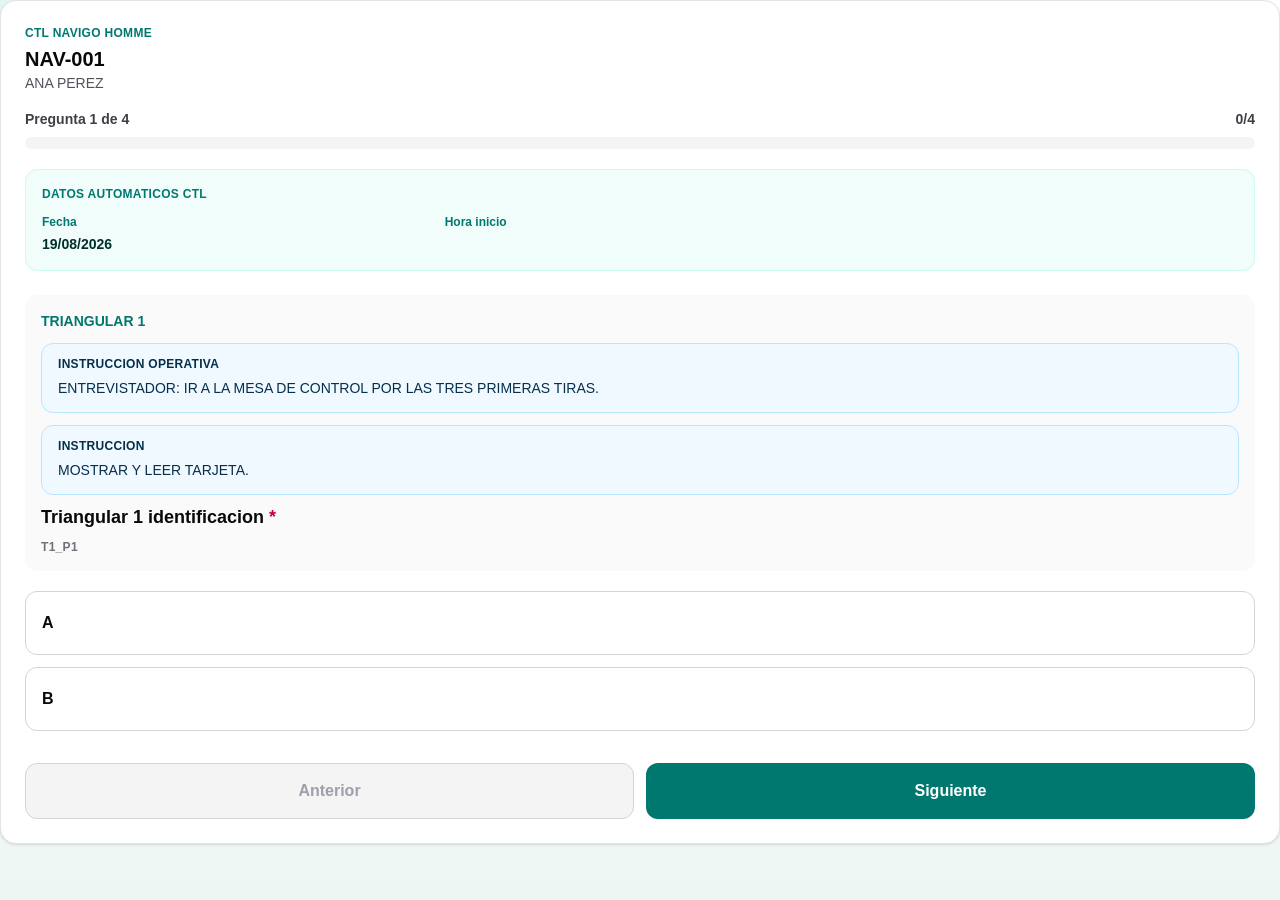
Test case: CtlMobileCapture › scrolls to the top of the capture when moving into a new section
The width and height of the screenshot is (1280, 900).
Click the button "A" at (48, 622), box [25,591,1255,655]
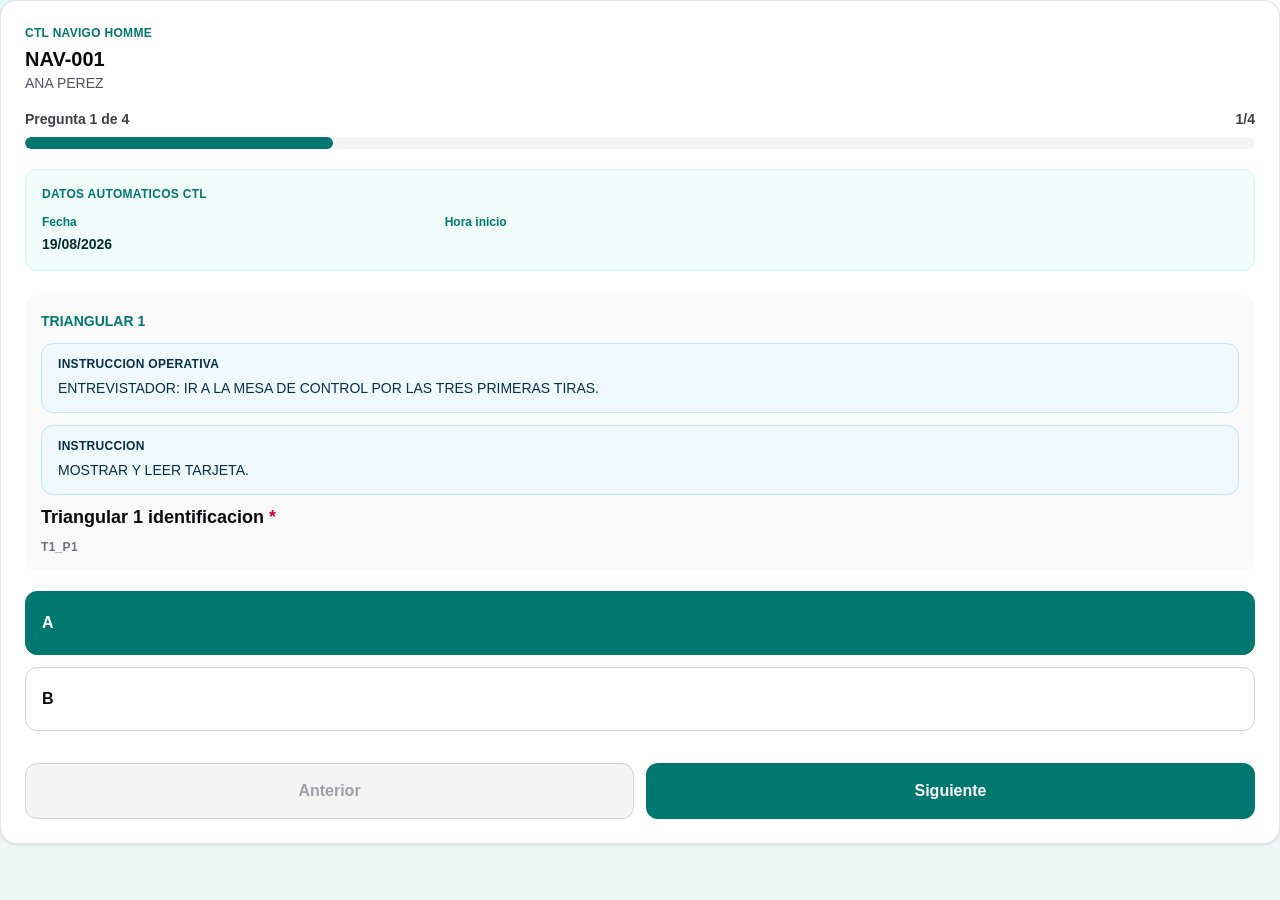
Click the button "Siguiente" at (950, 791), box [646,763,1255,819]
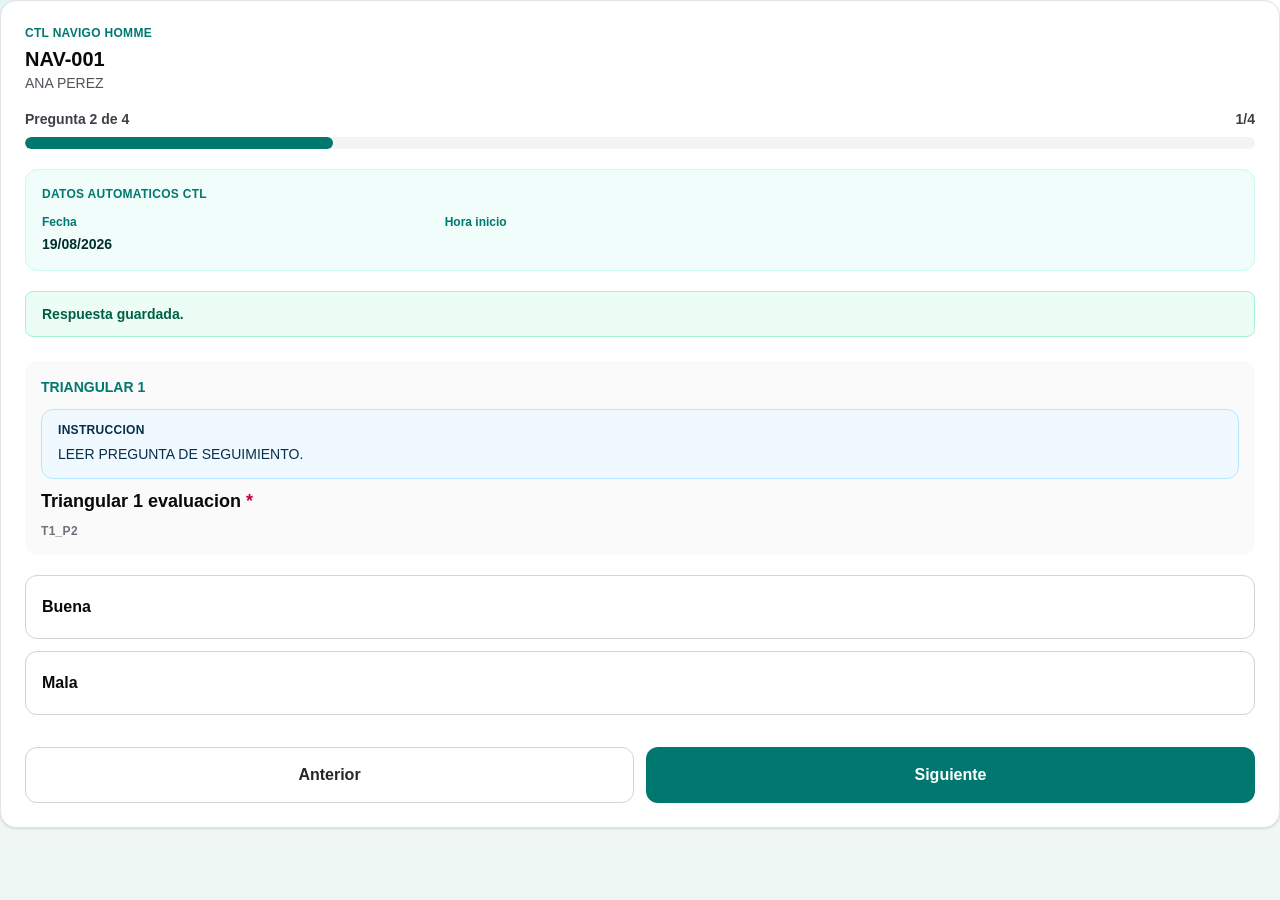
Now the text "Pregunta 2 de 4" is shown, box [25,109,129,129]
Click the button "Buena" at (66, 606), box [25,575,1255,639]
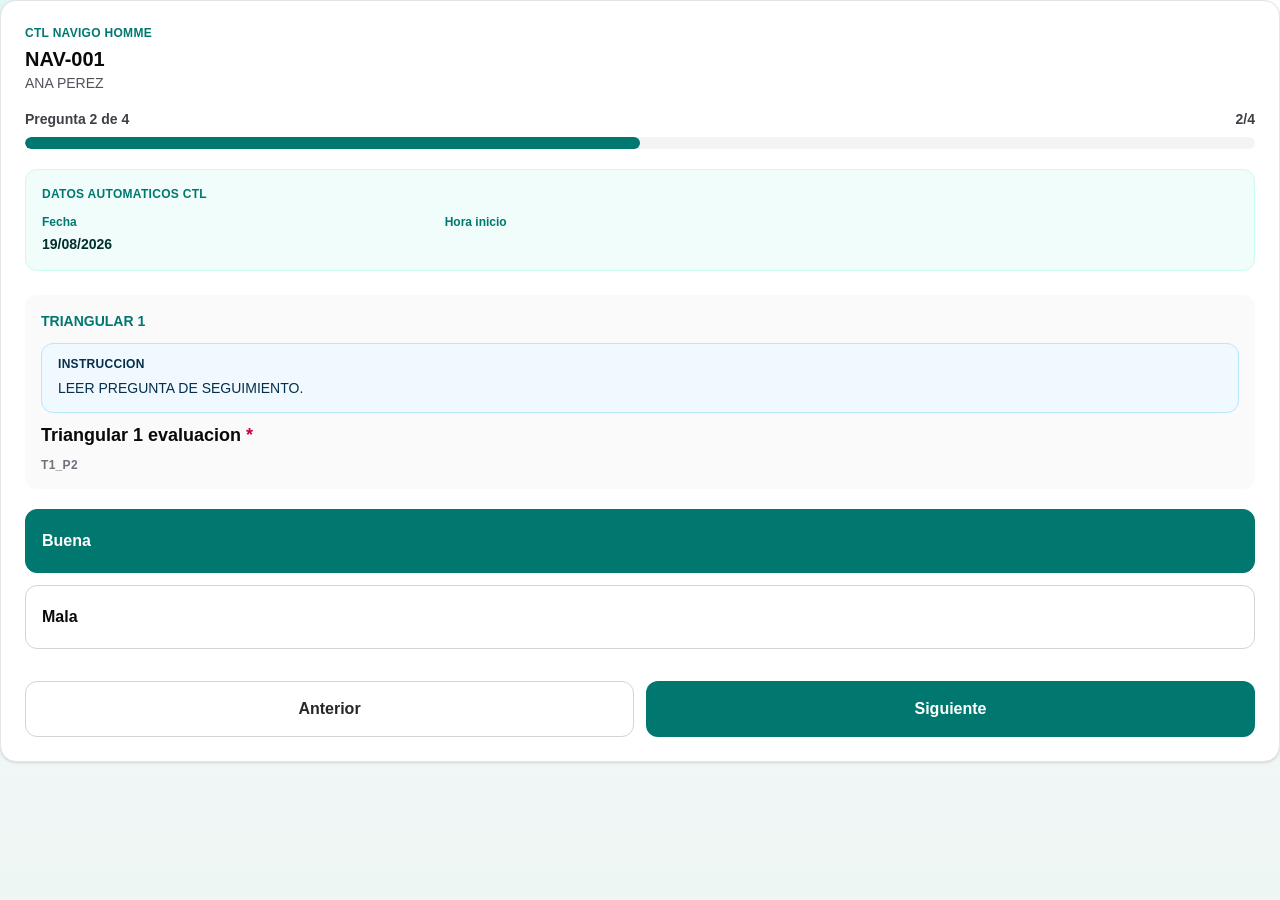
Click the button "Siguiente" at (950, 709), box [646,681,1255,737]
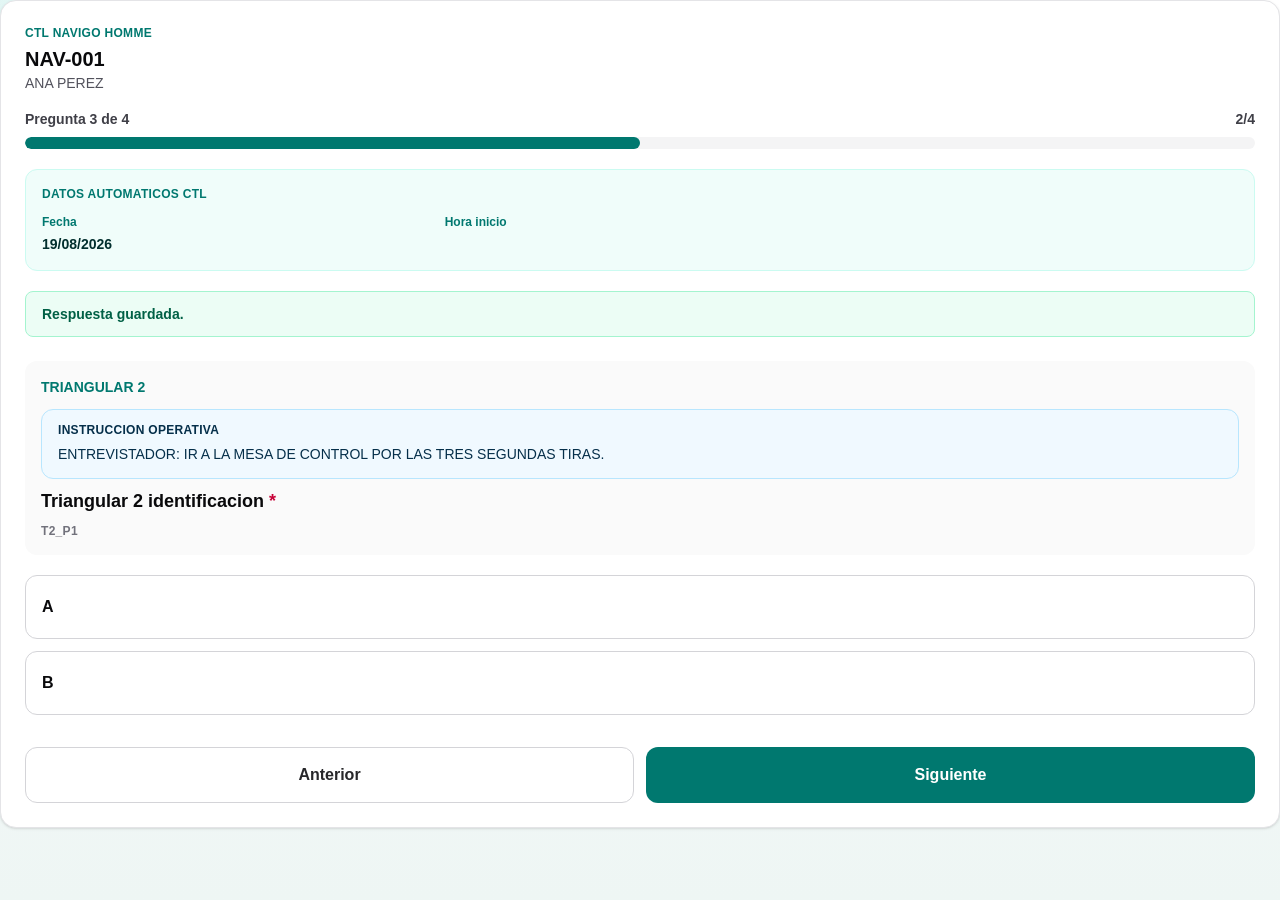
Now the text "Pregunta 3 de 4" is shown, box [25,109,129,129]
Now the text "TRIANGULAR 2" is shown, box [41,379,145,395]
